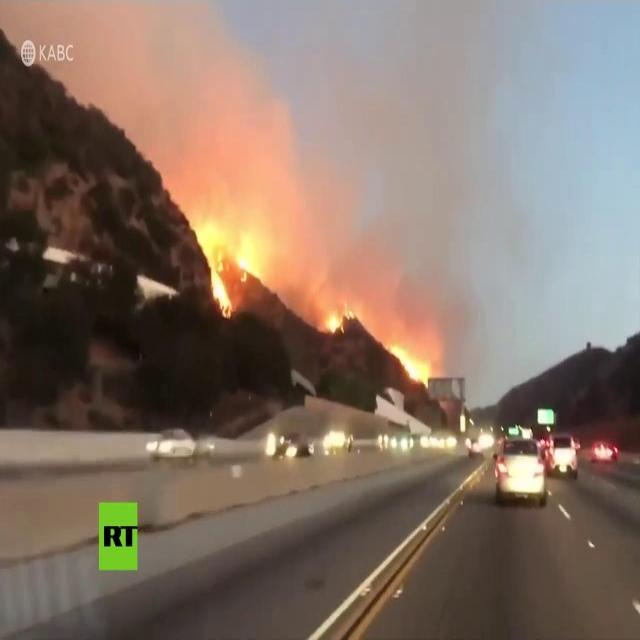Fire: (195, 215, 262, 321), (388, 343, 431, 385), (324, 304, 354, 335)
